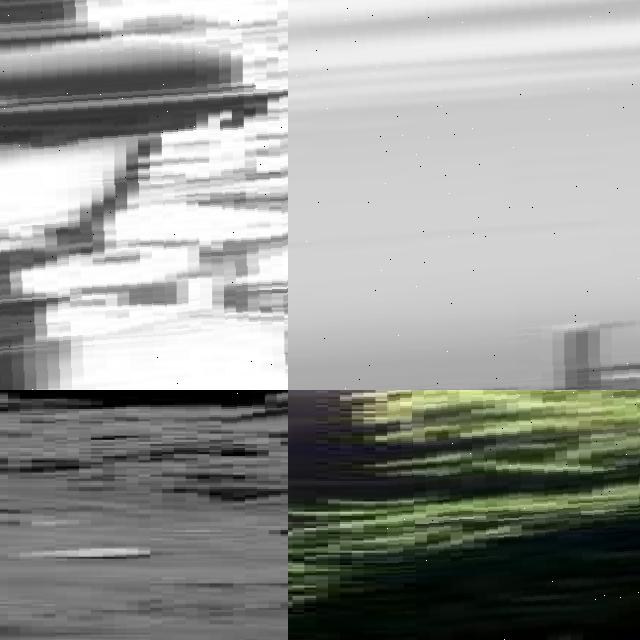street light: (288, 0, 640, 390), (0, 0, 288, 390), (387, 390, 640, 640)
